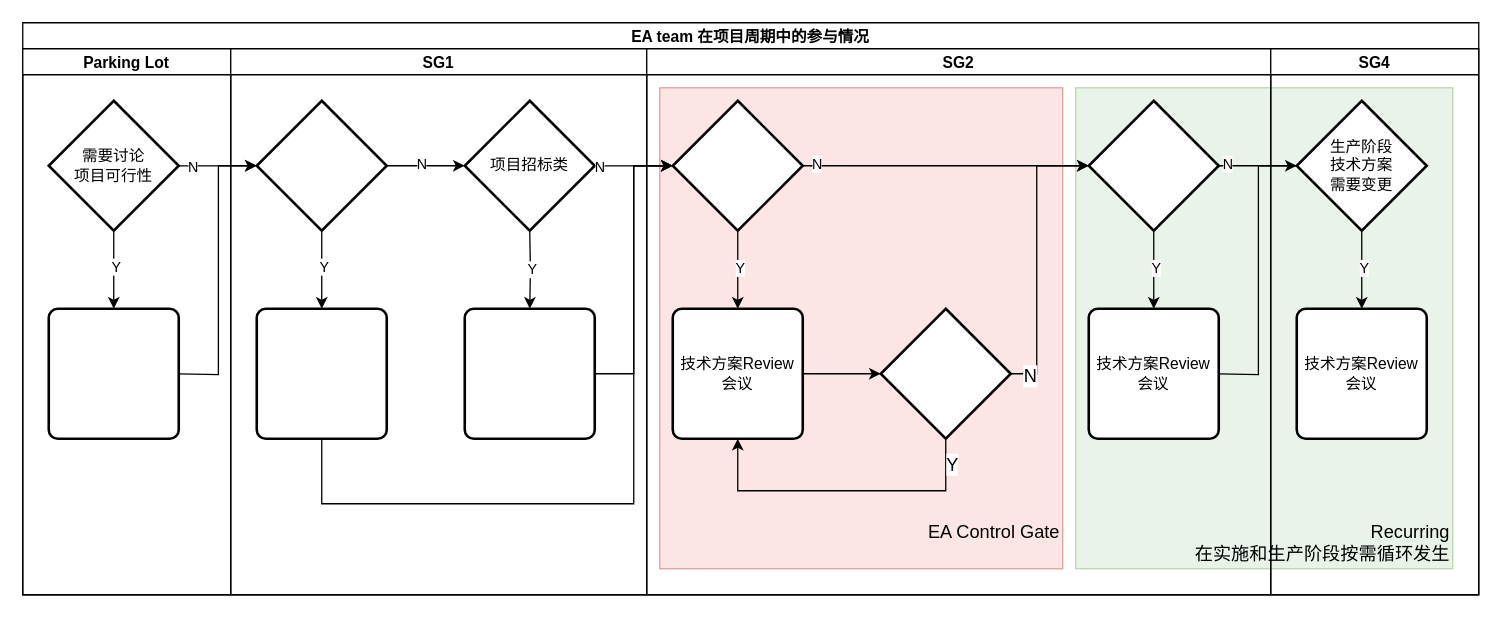
Some shapes in this 1502 by 618 pixel diagram are drawn without their labels. Each missing label, with the centre of its shape:
EA给出 修改建议后需要 再次review: the point at 945,373
产品设计类: the point at 321,165
产品设计需求Review会议: the point at 321,373
实施阶段 技术方案 需要变更: the point at 1153,165
标书Review会议: the point at 529,373
系统集成关系 新增或者修改: the point at 737,165
项目可行性讨论会议: the point at 113,373
